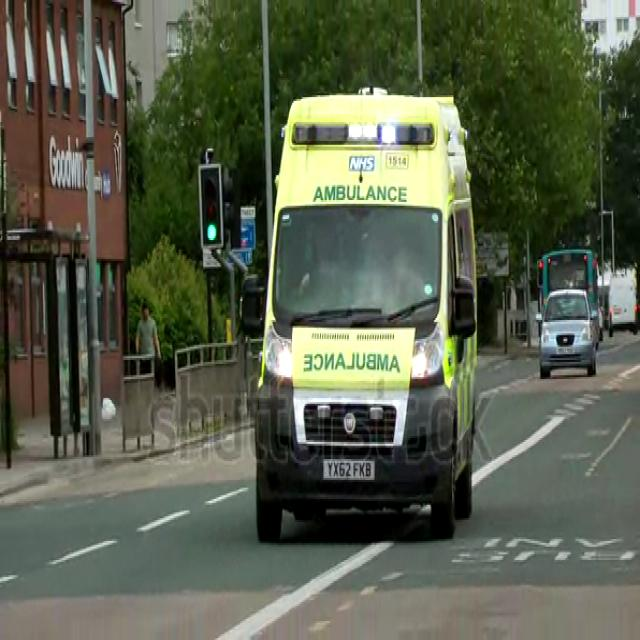ambulance: (246, 88, 479, 542)
